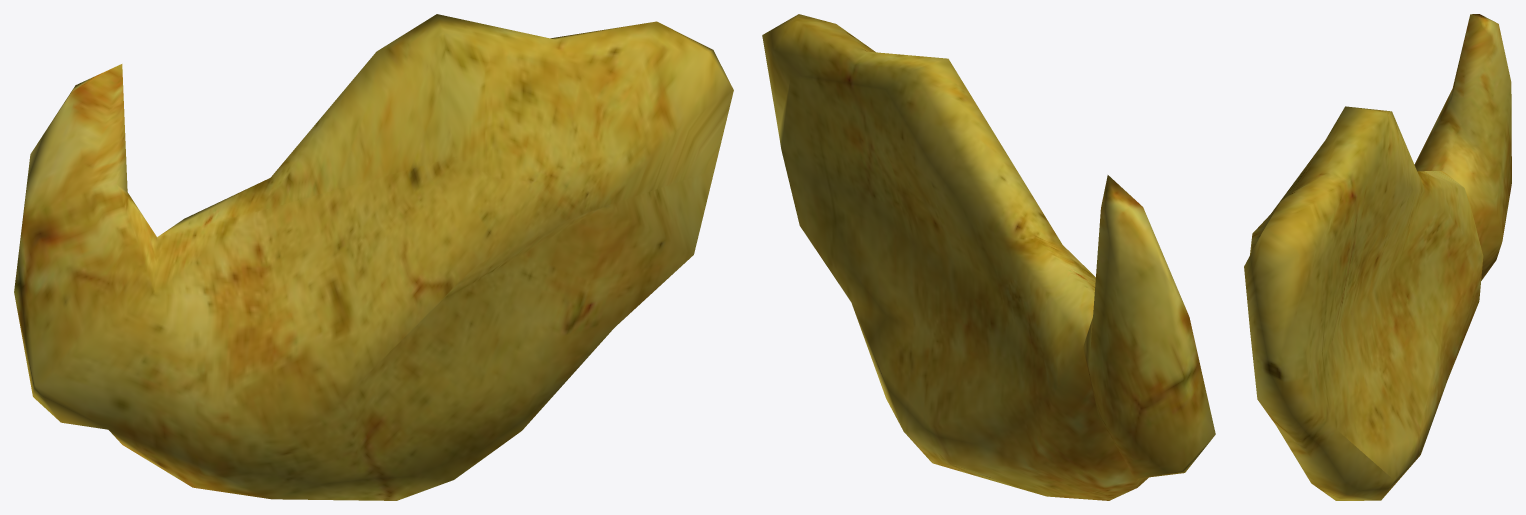
Rendered from L_Arytrnoid_Larygeal_Cartilage.glb.
3 views of the same model, side by side, from view 1: azimuth 30°, elevation 25°; view 2: azimuth 150°, elevation 25°; view 3: azimuth 270°, elevation 25° (orthographic). The views are drawn at different scales.
Parts seen in each view (by area): view 1: L_Arytenoid_Laryngeal_Cartilage; view 2: L_Arytenoid_Laryngeal_Cartilage; view 3: L_Arytenoid_Laryngeal_Cartilage.
Boxes of the visible parts, x1,y1,x2,y2 form: L_Arytenoid_Laryngeal_Cartilage: (14,14,733,500); L_Arytenoid_Laryngeal_Cartilage: (762,14,1215,500); L_Arytenoid_Laryngeal_Cartilage: (1244,14,1511,500).
Size of the model in its own units: 0.0476 by 0.0351 by 0.0209.
Materials: 1 (1 with a texture image).
